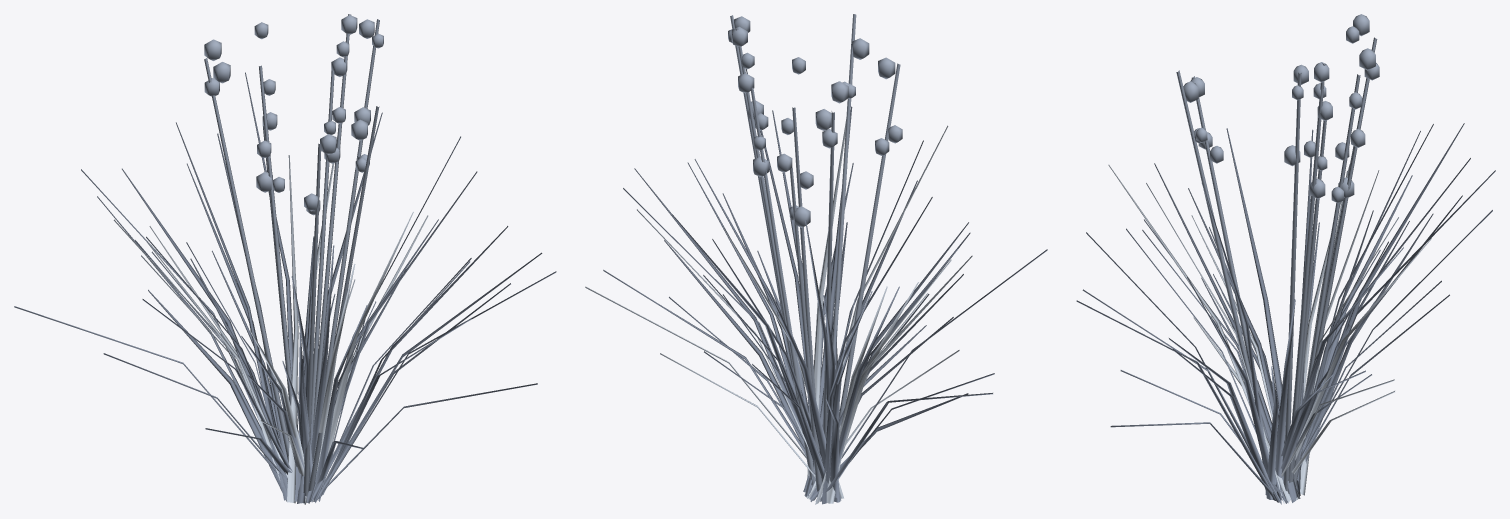
Rendered from 丛生草-lite.glb.
3 views of the same model, side by side, from view 1: azimuth 30°, elevation 25°; view 2: azimuth 150°, elevation 25°; view 3: azimuth 270°, elevation 25° (orthographic). The views are drawn at different scales.
Parts seen in each view (by area): view 1: garden-grass-clump-leaf, garden-grass-clump-accent, garden-grass-clump-light; view 2: garden-grass-clump-leaf, garden-grass-clump-accent, garden-grass-clump-light; view 3: garden-grass-clump-leaf, garden-grass-clump-accent, garden-grass-clump-light.
Boxes of the visible parts, <box> form: garden-grass-clump-leaf: <box>14,72,556,503</box>; garden-grass-clump-accent: <box>204,14,383,501</box>; garden-grass-clump-light: <box>113,135,428,504</box>; garden-grass-clump-leaf: <box>603,69,1047,504</box>; garden-grass-clump-accent: <box>728,14,902,496</box>; garden-grass-clump-light: <box>585,119,972,504</box>; garden-grass-clump-leaf: <box>1076,123,1495,504</box>; garden-grass-clump-accent: <box>1176,14,1379,497</box>; garden-grass-clump-light: <box>1108,164,1431,503</box>.
Bounding box in the file's own units: 0.75 × 0.8 × 0.65.
